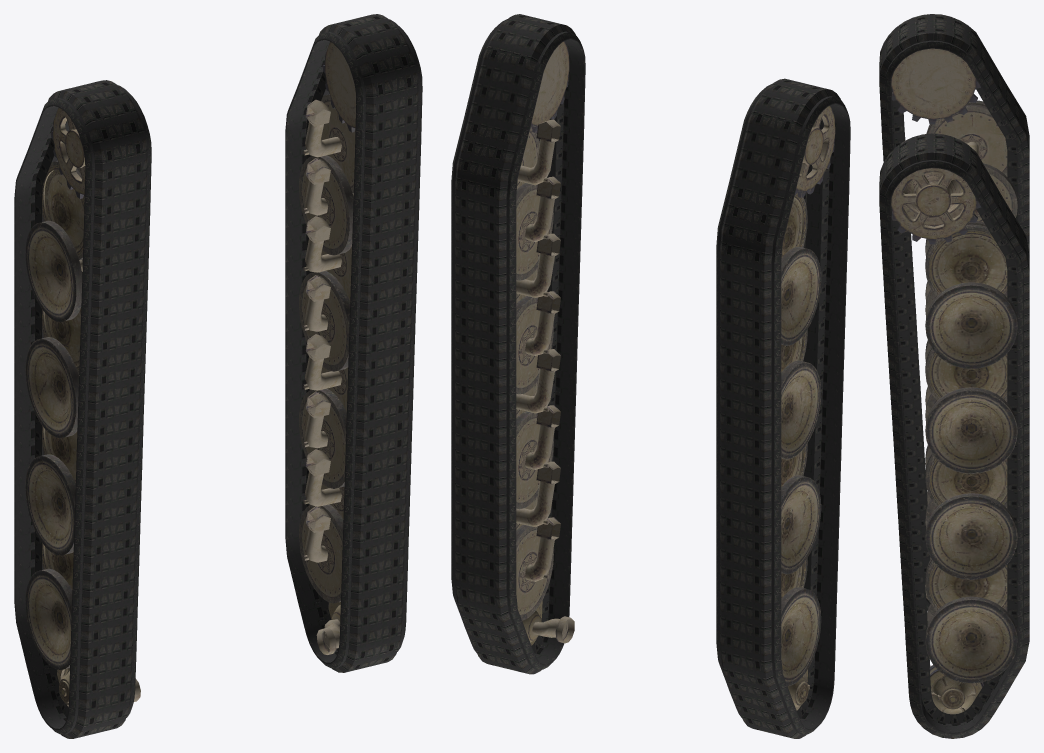
File: Chassis.glb
3 renders of one model, left to right at view 1: azimuth 30°, elevation 25°; view 2: azimuth 150°, elevation 25°; view 3: azimuth 270°, elevation 25°, orthographic. The views are drawn at different scales.
Visible parts, largest first — view 1: set_0_group_0, set_1_group_0, set_3_group_0, set_2_group_0; view 2: set_0_group_0, set_1_group_0, set_3_group_0, set_2_group_0; view 3: set_3_group_0, set_1_group_0, set_0_group_0, set_2_group_0.
Part boxes in pixels (x1=…): set_0_group_0: x1=14, y1=80, x2=151, y2=738; set_1_group_0: x1=285, y1=14, x2=422, y2=672; set_3_group_0: x1=299, y1=41, x2=356, y2=654; set_2_group_0: x1=25, y1=107, x2=140, y2=706; set_0_group_0: x1=716, y1=78, x2=850, y2=738; set_1_group_0: x1=451, y1=14, x2=585, y2=674; set_3_group_0: x1=516, y1=41, x2=574, y2=645; set_2_group_0: x1=781, y1=106, x2=835, y2=710; set_3_group_0: x1=891, y1=168, x2=1017, y2=714; set_1_group_0: x1=879, y1=133, x2=1029, y2=738; set_0_group_0: x1=879, y1=14, x2=1029, y2=611; set_2_group_0: x1=891, y1=48, x2=1017, y2=600.
Size of the model in its own units: 3.4 by 6.27 by 1.46.
Materials: 4 (4 with a texture image).
